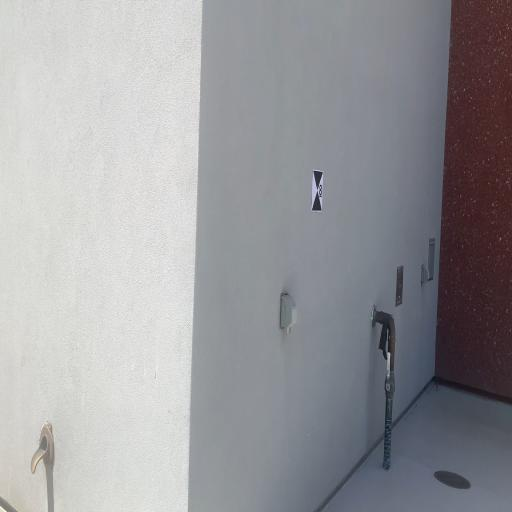target8: (310, 169, 324, 211)
